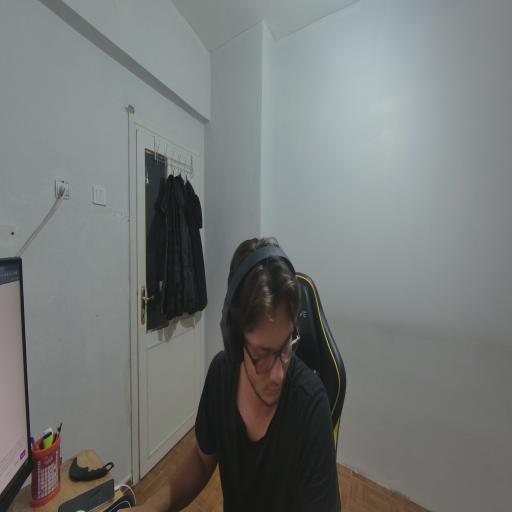cuma-face-v2: (217, 220, 304, 414)
